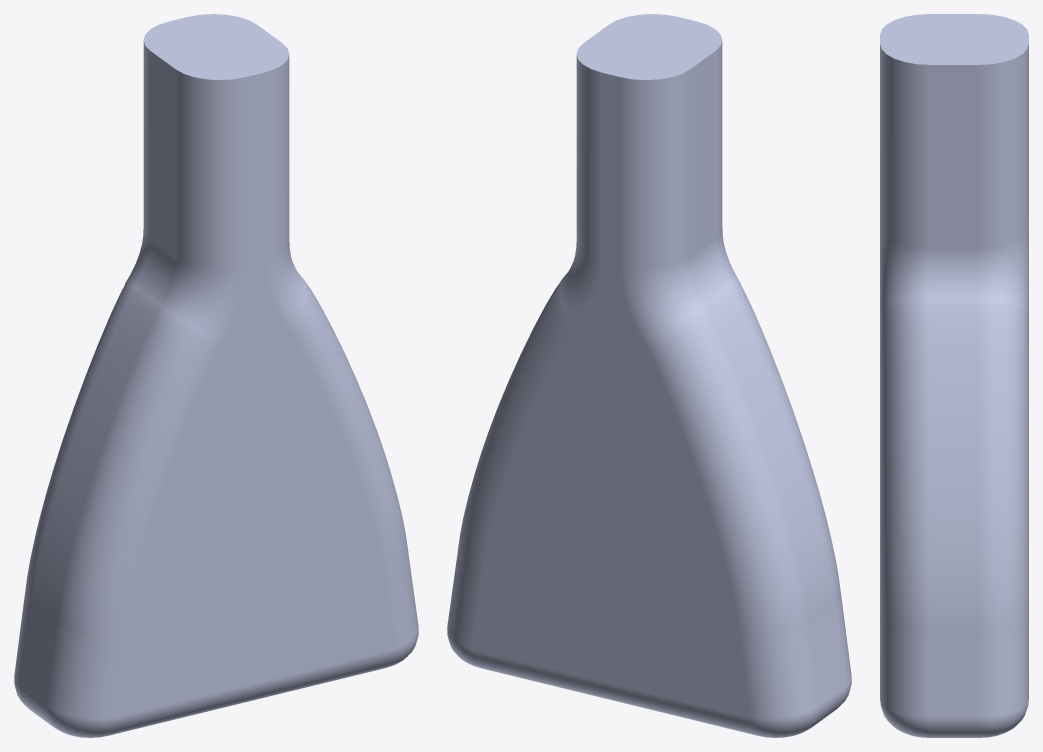
File: Kraft_BBQ.dae
3 renders of one model, left to right at view 1: azimuth 30°, elevation 25°; view 2: azimuth 150°, elevation 25°; view 3: azimuth 270°, elevation 25°, orthographic. The views are drawn at different scales.
Visible parts, largest first — view 1: Actor0; view 2: Actor0; view 3: Actor0.
Boxes of the visible parts, bbox=[...] form: Actor0: bbox=[14, 14, 418, 737]; Actor0: bbox=[447, 14, 851, 737]; Actor0: bbox=[880, 14, 1028, 737].
Bounding box in the file's own units: 0.1056 × 0.1755 × 0.0381.
